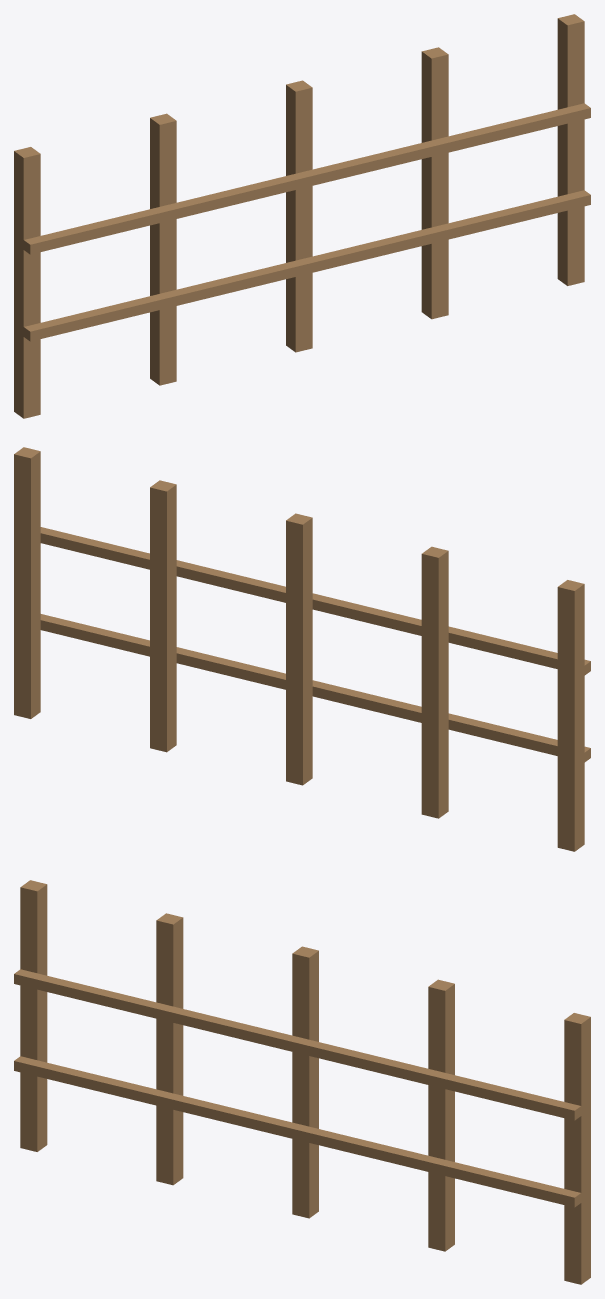
The model's file is palisade.glb.
The picture shows the model from 3 angles, top to bottom: view 1: azimuth 30°, elevation 25°; view 2: azimuth 150°, elevation 25°; view 3: azimuth 330°, elevation 25°; orthographic projection.
Parts seen in each view (by area): view 1: Rail_002, Rail_001, Post_001, Post_004, Post_005, Post_003, Post_002; view 2: Rail_002, Rail_001, Post_002, Post_001, Post_003, Post_005, Post_004; view 3: Rail_002, Rail_001, Post_005, Post_002, Post_001, Post_003, Post_004.
Part boxes in pixels (left/top/right/bottom): Rail_002: left=23, top=103, right=590, bottom=254; Rail_001: left=23, top=190, right=590, bottom=341; Post_001: left=14, top=147, right=40, bottom=418; Post_004: left=421, top=47, right=448, bottom=319; Post_005: left=557, top=14, right=584, bottom=285; Post_003: left=286, top=80, right=312, bottom=352; Post_002: left=150, top=113, right=176, bottom=385; Rail_002: left=40, top=527, right=590, bottom=675; Rail_001: left=40, top=614, right=590, bottom=762; Post_002: left=421, top=546, right=448, bottom=818; Post_001: left=557, top=580, right=584, bottom=851; Post_003: left=286, top=513, right=312, bottom=785; Post_005: left=14, top=447, right=40, bottom=718; Post_004: left=150, top=480, right=176, bottom=752; Rail_002: left=14, top=969, right=581, bottom=1120; Rail_001: left=14, top=1056, right=581, bottom=1207; Post_005: left=564, top=1013, right=590, bottom=1284; Post_002: left=156, top=913, right=183, bottom=1185; Post_001: left=20, top=880, right=47, bottom=1151; Post_003: left=292, top=946, right=318, bottom=1218; Post_004: left=428, top=979, right=454, bottom=1251.
Size of the model in its own units: 4.95 by 2.2 by 0.249.
